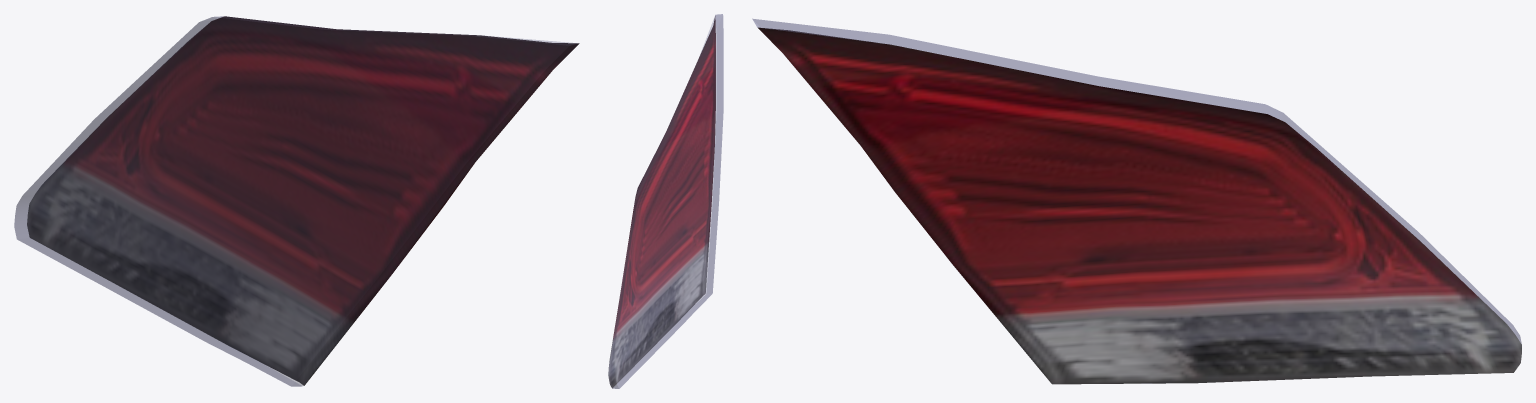
3 renders of one model, left to right at view 1: azimuth 30°, elevation 25°; view 2: azimuth 150°, elevation 25°; view 3: azimuth 270°, elevation 25°, orthographic. The views are drawn at different scales.
Visible parts, largest first — view 1: Y156_541D_R_1_DTaSI_Y156_541D_R, Y156_541D_R_Y156_541D_R_2_N; view 2: Y156_541D_R_1_DTaSI_Y156_541D_R, Y156_541D_R_Y156_541D_R_2_N; view 3: Y156_541D_R_Y156_541D_R_2_N, Y156_541D_R_1_DTaSI_Y156_541D_R.
Boxes of the visible parts, x1,y1,x2,y2 form: Y156_541D_R_1_DTaSI_Y156_541D_R: (14,16,578,386); Y156_541D_R_Y156_541D_R_2_N: (27,16,579,385); Y156_541D_R_1_DTaSI_Y156_541D_R: (608,14,723,388); Y156_541D_R_Y156_541D_R_2_N: (608,16,715,388); Y156_541D_R_Y156_541D_R_2_N: (758,27,1521,384); Y156_541D_R_1_DTaSI_Y156_541D_R: (752,18,1521,343).
Size of the model in its own units: 9.78 by 21.75 by 35.15.
